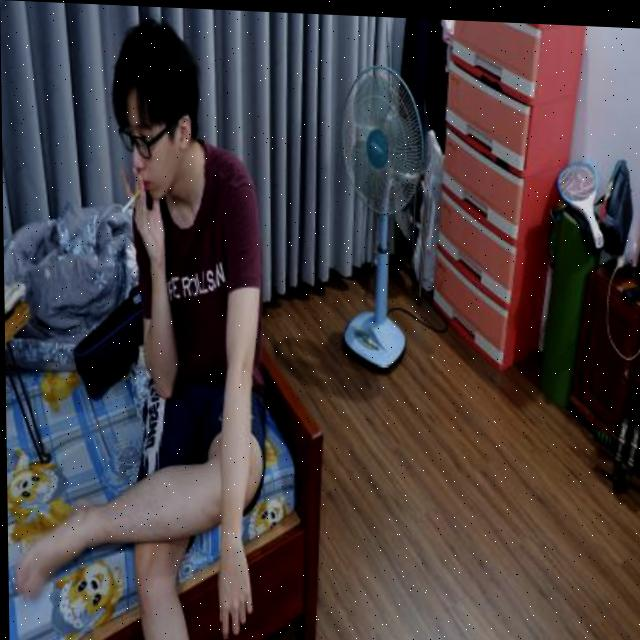cigarette: (120, 186, 141, 213)
